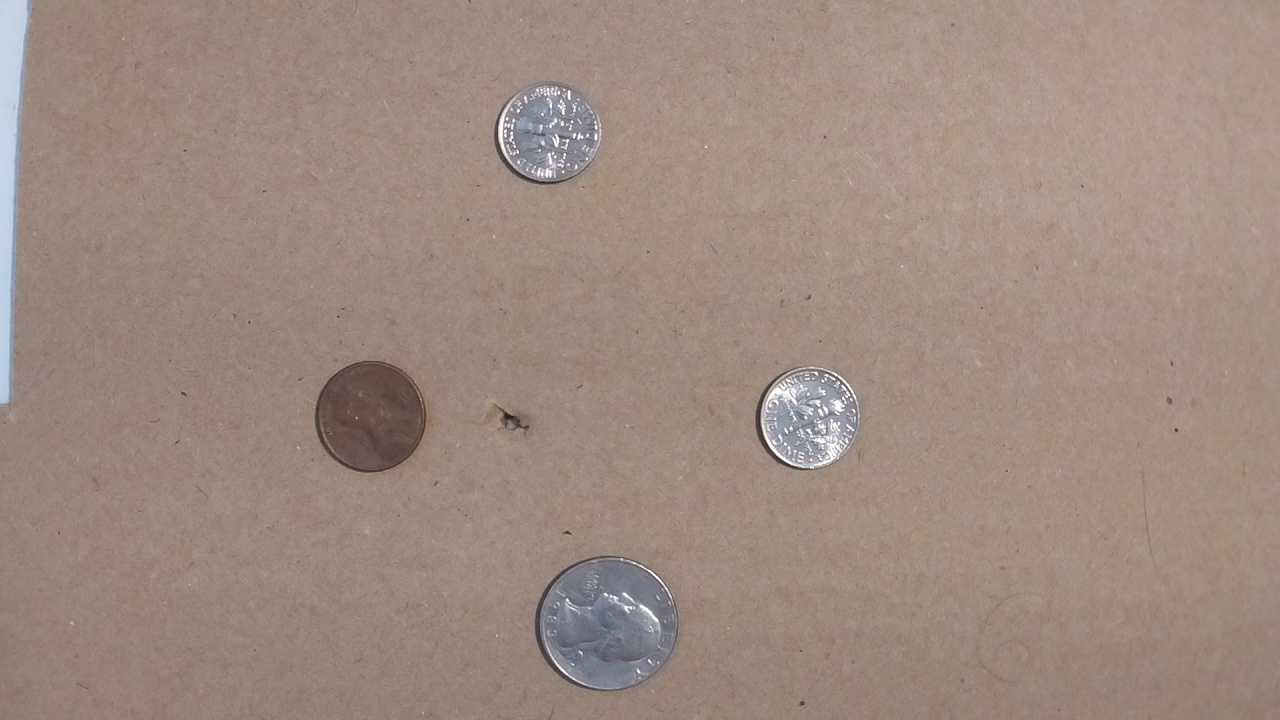dime: (491, 78, 603, 188), (754, 363, 864, 473)
penny: (306, 358, 432, 478)
quarter: (534, 553, 680, 693)
